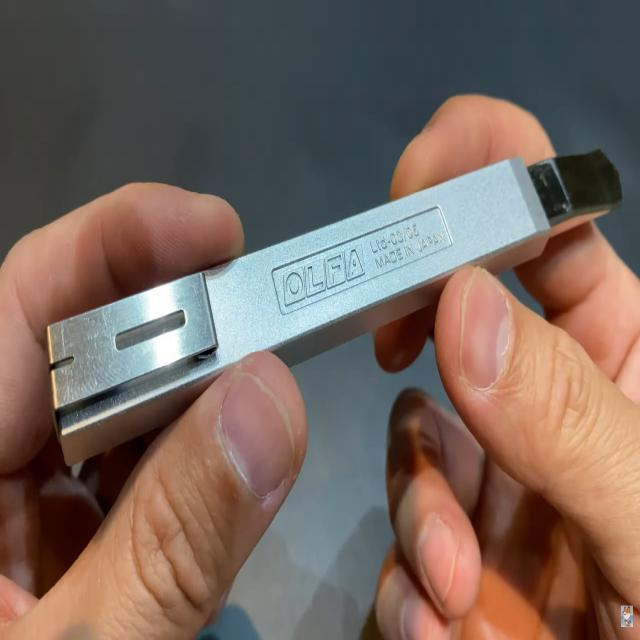cutter: (0, 121, 640, 521)
